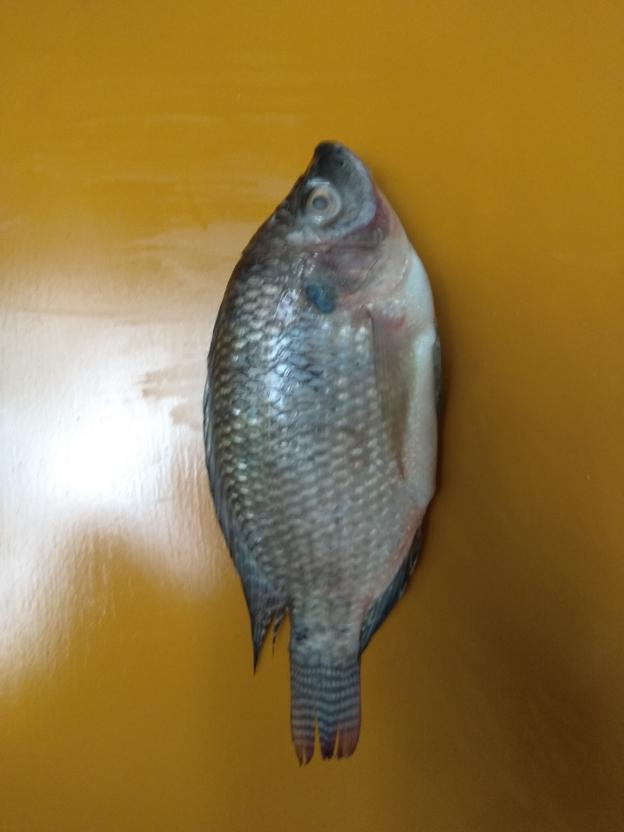Fish head: (254, 136, 413, 316)
Fish tail: (287, 645, 367, 769)
